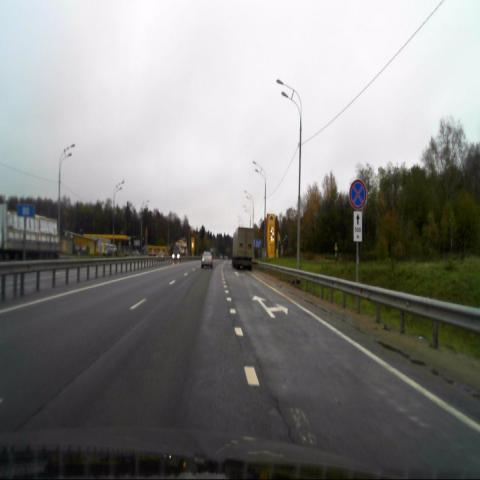8_2_2: (354, 210, 362, 241)
